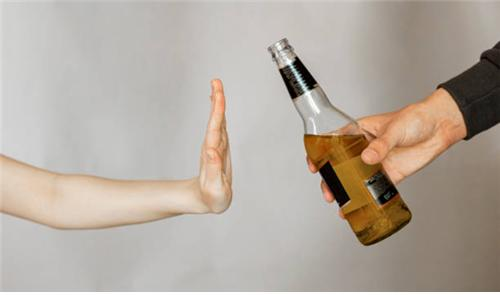alcohol: (268, 37, 413, 247)
